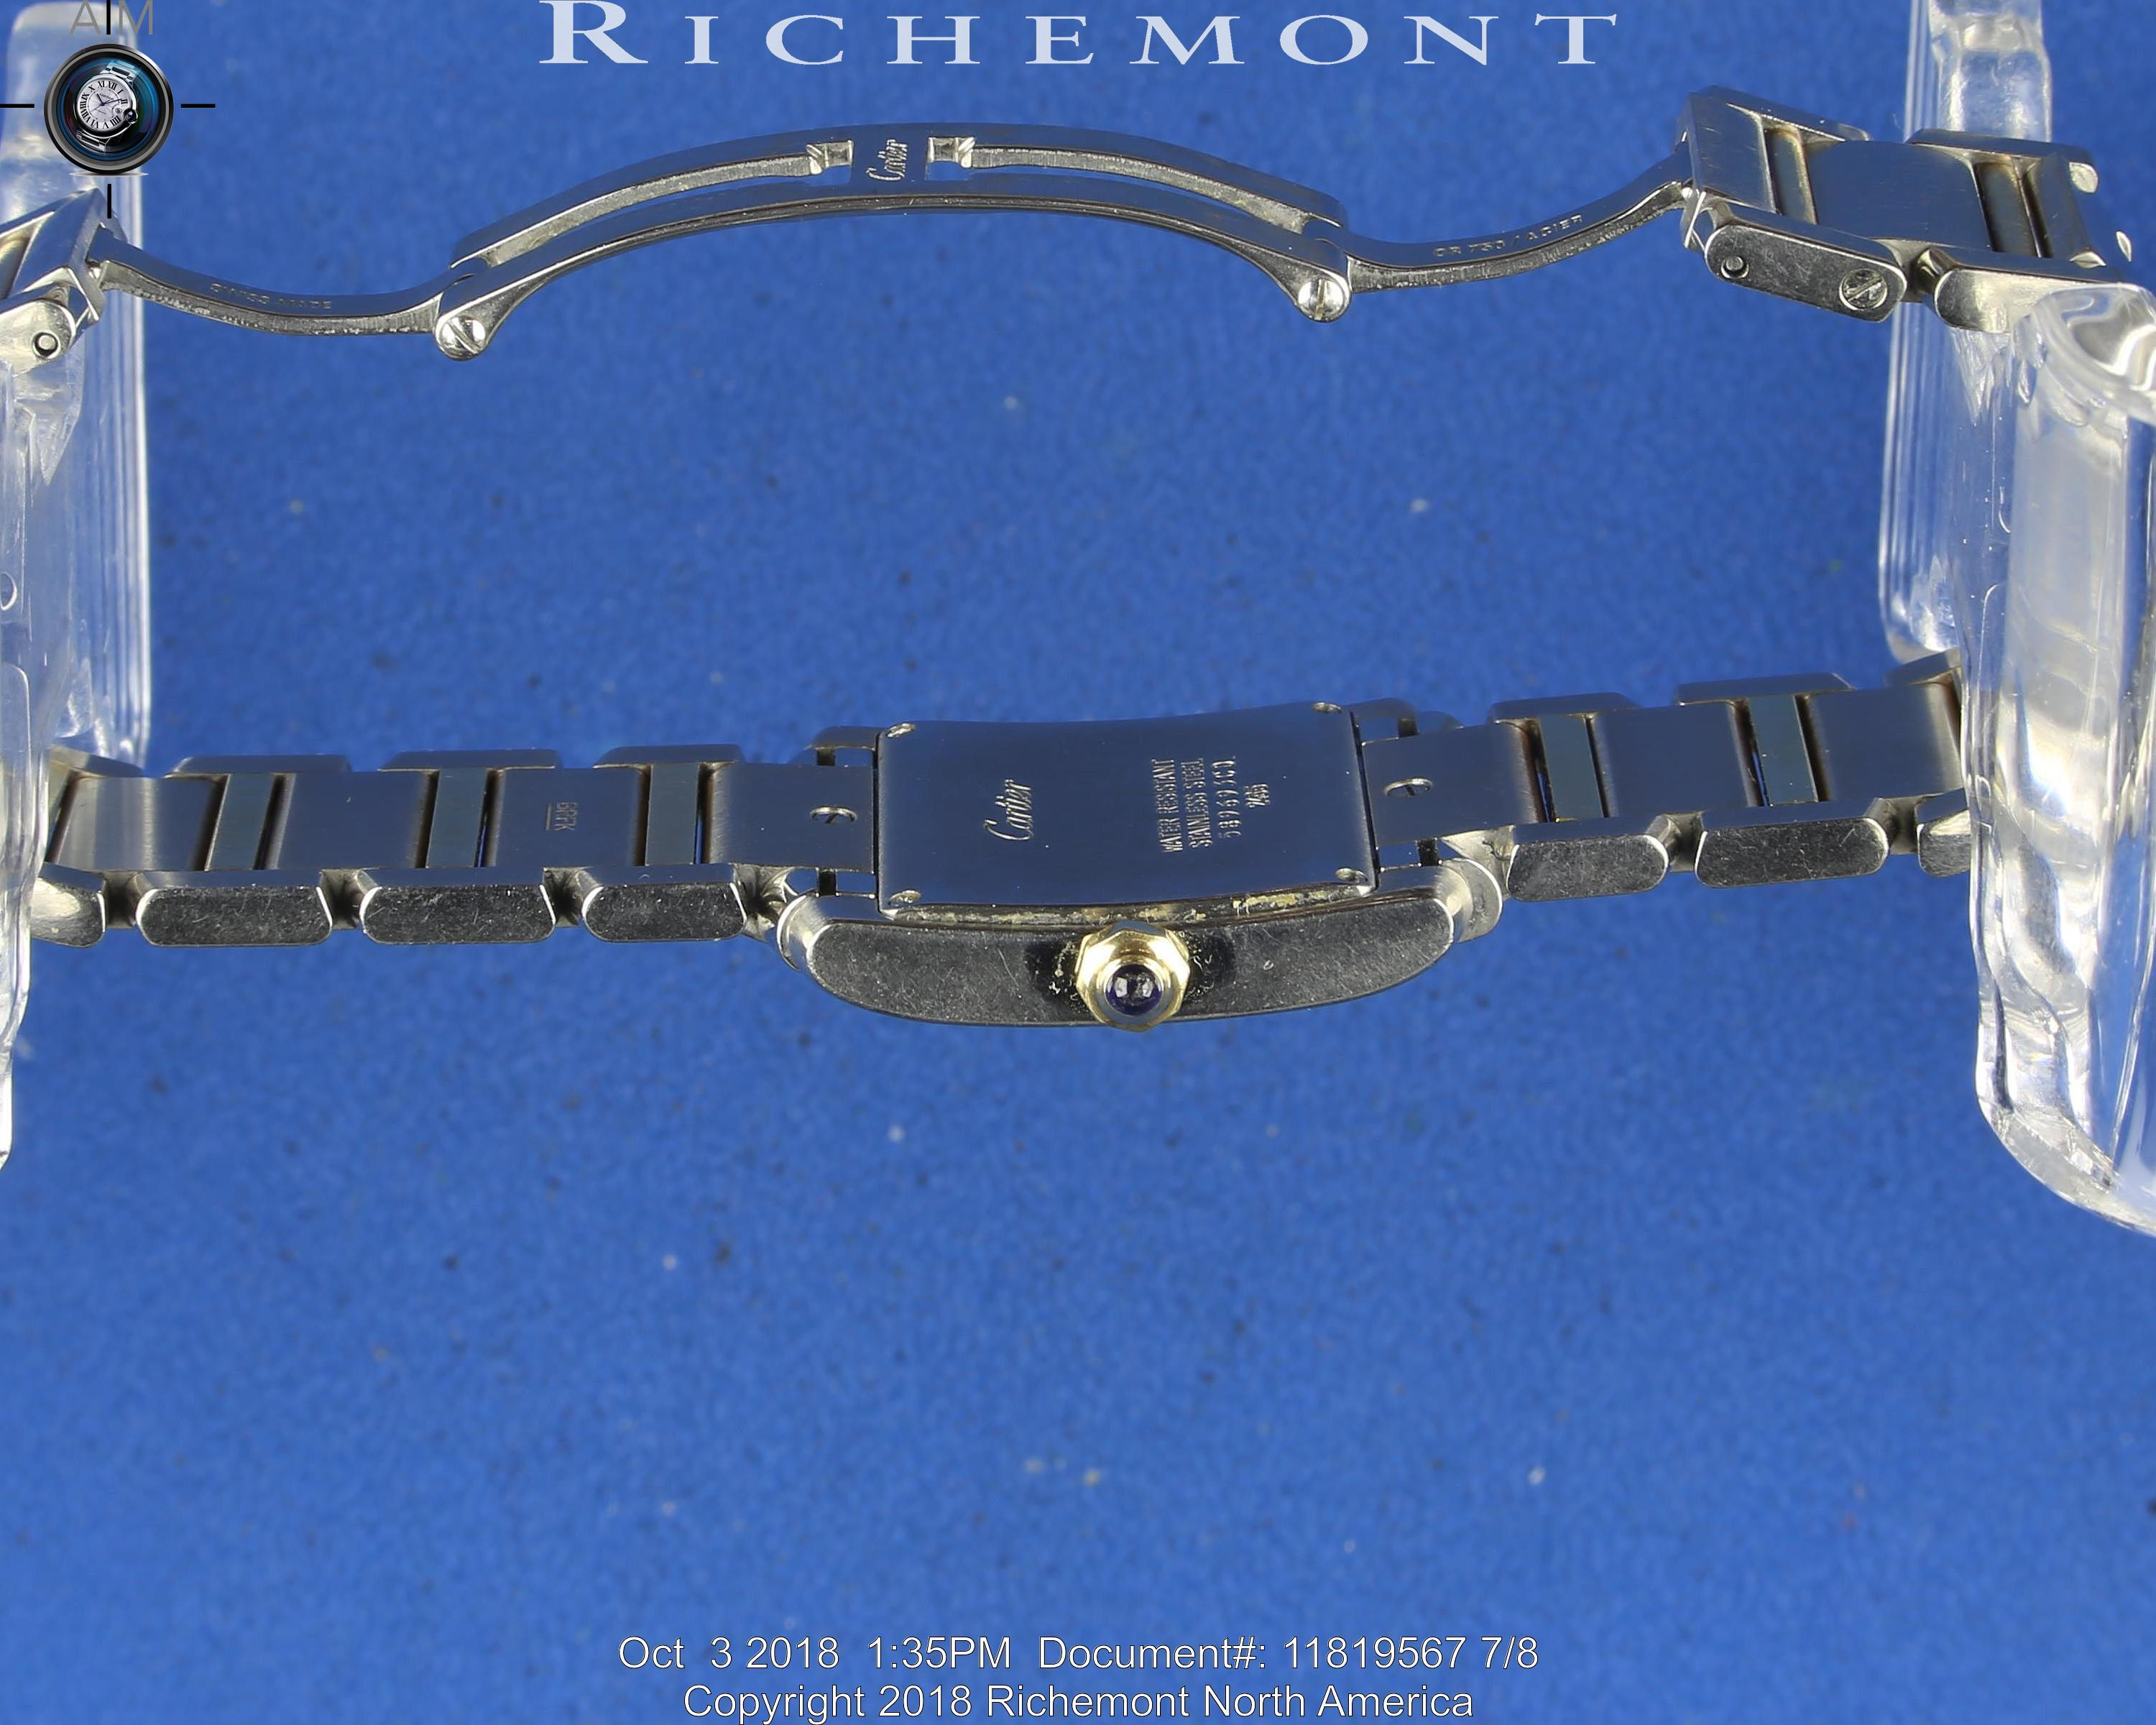watchback: (818, 683, 1463, 958)
